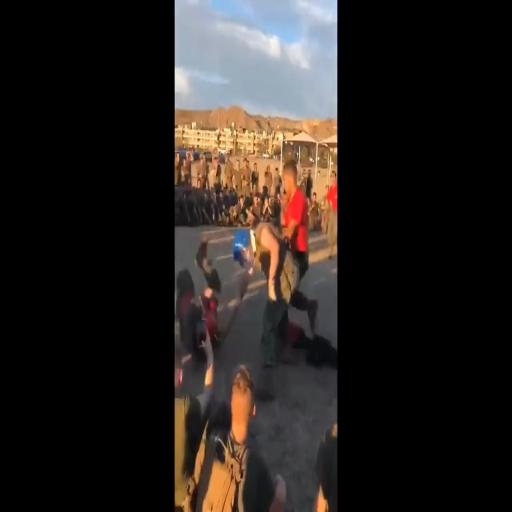violencia: (177, 197, 321, 408)
